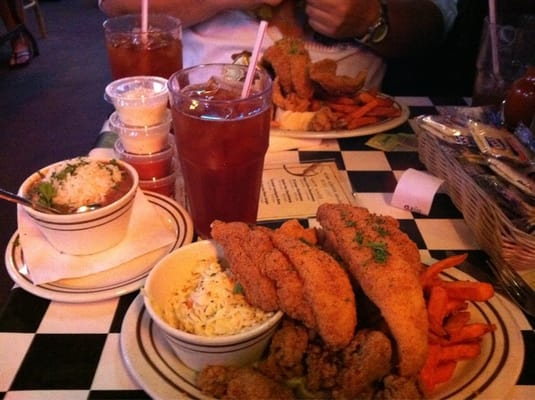pizza: (102, 13, 184, 82)
salad: (0, 187, 56, 213)
sushi: (140, 239, 285, 373), (10, 152, 141, 258)
